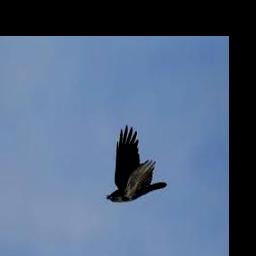Crow: (106, 125, 166, 202)
